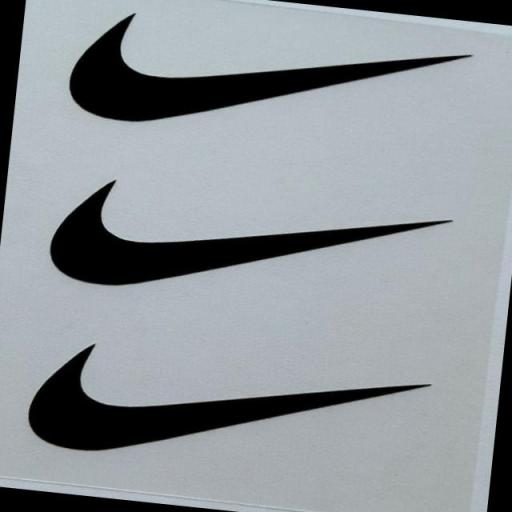Nike: (43, 175, 466, 321)
